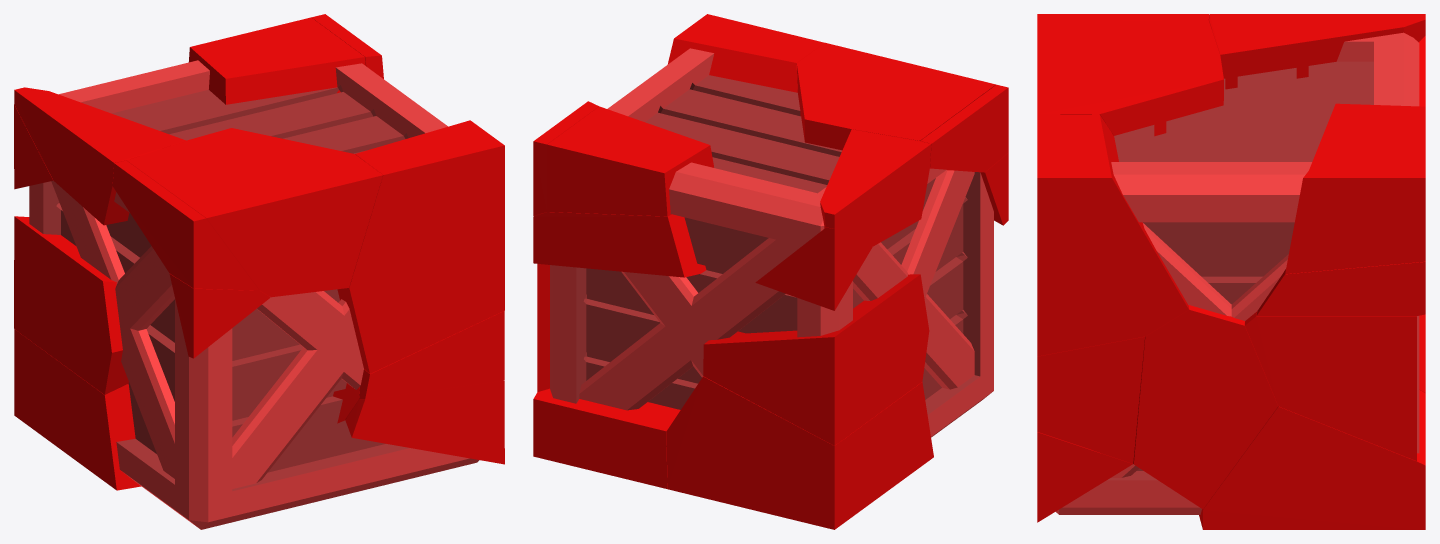
The model's file is Box-cellfractured25.fbx.
3 renders of one model, left to right at view 1: azimuth 30°, elevation 25°; view 2: azimuth 150°, elevation 25°; view 3: azimuth 270°, elevation 25°, orthographic. The views are drawn at different scales.
Parts seen in each view (by area): view 1: Box_cell.017, Box_cell.009, Box_cell.022, Box_cell.016, Box_cell.024, Box_cell.005, Box_cell.013, Box_cell.018, Box_cell.007, Box_cell.023, Box_cell.001, Box_cell.021 (+8 smaller); view 2: Box_cell.017, Box_cell.016, Box_cell.018, Box_cell.013, Box_cell.022, Box_cell.007, Box_cell.032, Box_cell.024, Box_cell.008, Box_cell.004, Box_cell.009, Box_cell.006 (+12 smaller); view 3: Box_cell.016, Box_cell.017, Box_cell.009, Box_cell.010, Box_cell.008, Box_cell.022, Box_cell.003, Box_cell.015, Box_cell.024, Box_cell.021, Box_cell.004, Box_cell.007 (+8 smaller).
Boxes of the visible parts, x1,y1,x2,y2 form: Box_cell.017: (14,65,476,529); Box_cell.009: (232,120,504,488); Box_cell.022: (127,128,382,297); Box_cell.016: (29,60,504,527); Box_cell.024: (29,71,437,529); Box_cell.005: (112,160,363,389); Box_cell.013: (14,216,128,394); Box_cell.018: (14,329,141,490); Box_cell.007: (188,17,365,104); Box_cell.023: (345,380,504,464); Box_cell.001: (161,290,336,428); Box_cell.021: (225,80,408,153); Box_cell.017: (550,51,993,436); Box_cell.016: (550,48,993,424); Box_cell.018: (666,376,933,529); Box_cell.013: (703,274,929,445); Box_cell.022: (796,42,995,150); Box_cell.007: (547,106,713,216); Box_cell.032: (579,238,797,410); Box_cell.024: (577,54,992,437); Box_cell.008: (533,388,680,488); Box_cell.004: (533,212,706,277); Box_cell.009: (667,14,824,92); Box_cell.006: (581,238,797,408); Box_cell.016: (1037,32,1417,513); Box_cell.017: (1056,14,1425,514); Box_cell.009: (1037,114,1188,356); Box_cell.010: (1133,235,1286,509); Box_cell.008: (1199,390,1425,529); Box_cell.022: (1037,20,1223,136); Box_cell.003: (1245,311,1416,460); Box_cell.015: (1285,170,1425,274); Box_cell.024: (1059,42,1412,513); Box_cell.021: (1114,105,1325,300); Box_cell.004: (1256,261,1425,315); Box_cell.007: (1309,103,1425,170).
Bounding box in the file's own units: 3.03 × 3.03 × 3.03.
